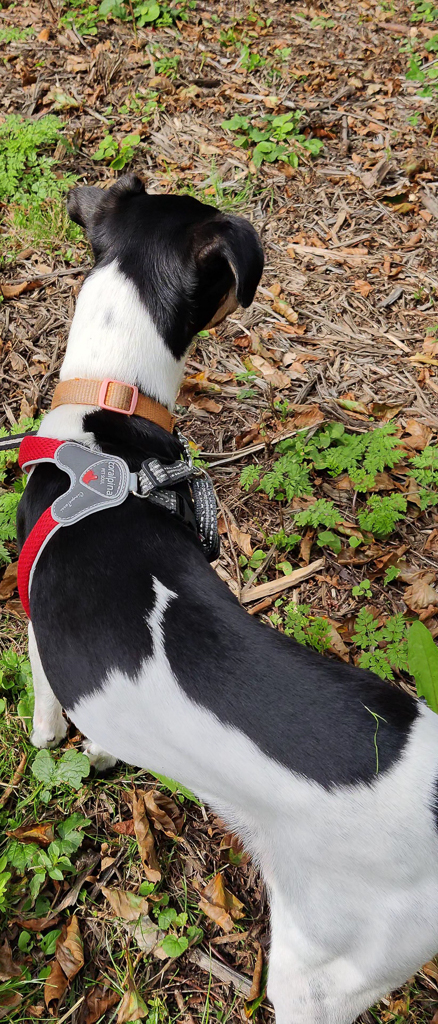Dog: (8, 164, 437, 1023)
